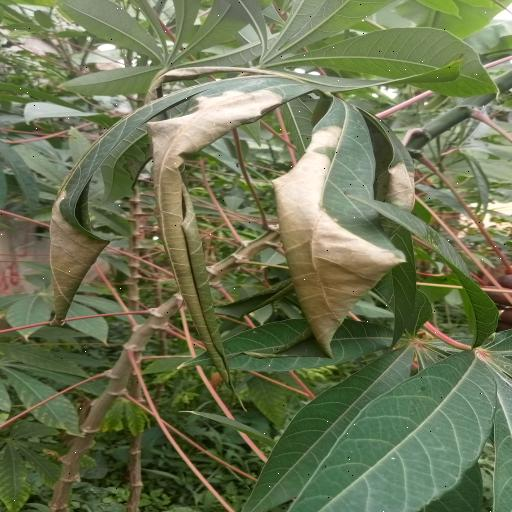Cassava_Root_Rot: (60, 68, 427, 373)
